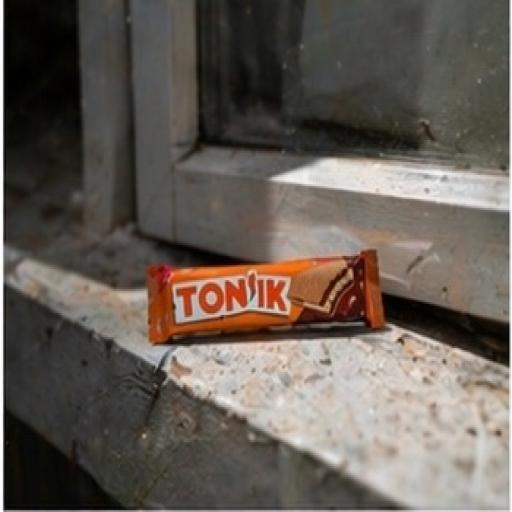tonik: (88, 189, 449, 448)
